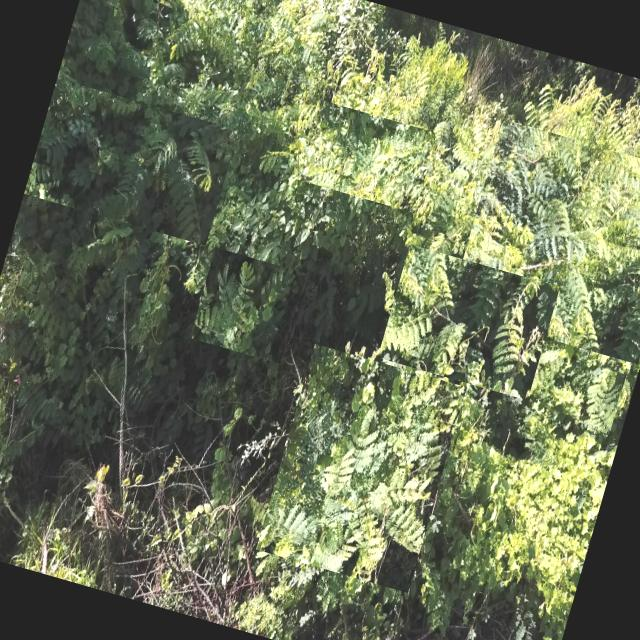Mysore-Thorn-Weed: (256, 343, 467, 593), (448, 118, 640, 364), (23, 78, 238, 245), (0, 223, 136, 444), (376, 244, 560, 401), (295, 99, 437, 213), (189, 248, 305, 364), (587, 368, 626, 434)
